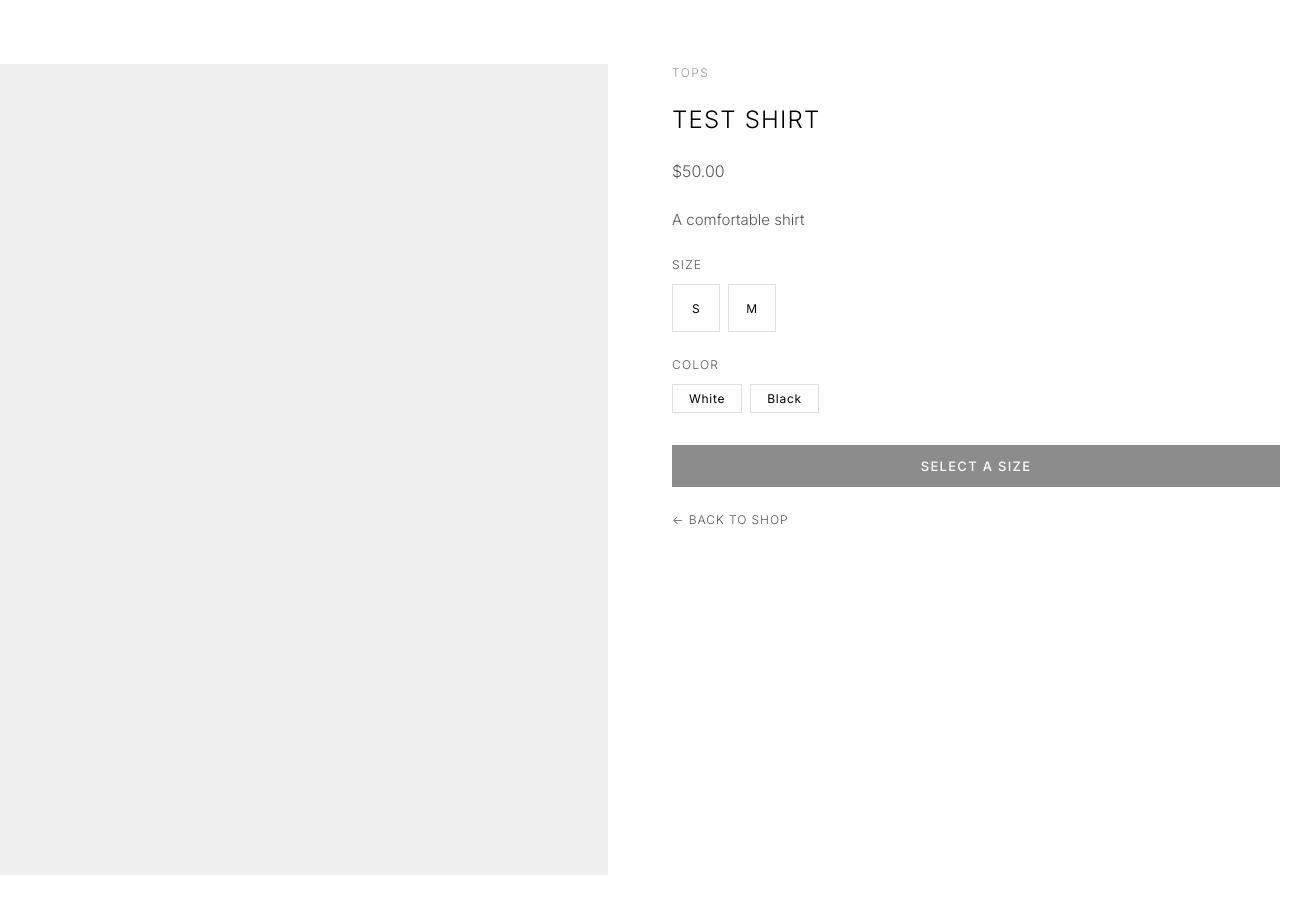
Test: ProductDetail — add-to-cart button label › restores "Add to Cart" after switching from unavailable to available combo
expect the heading "Test Shirt" is shown: met, box [672, 105, 820, 134]
# S → M/White (sold out) → pick Black → M/Black (available)
Click the button named "size s".
click(696, 308)  # box [672, 284, 720, 332]
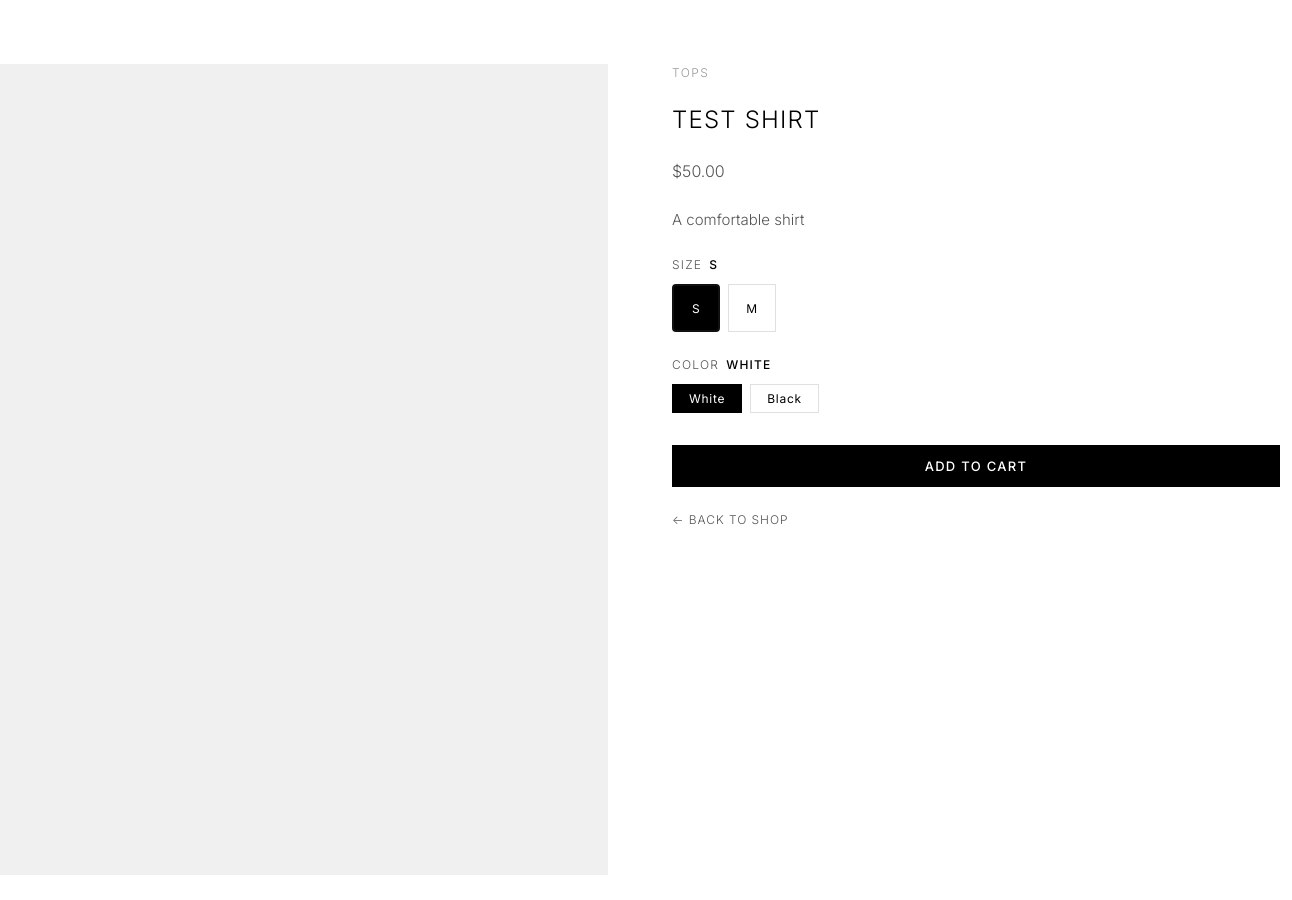
Click the button named "size m".
click(752, 308)  # box [728, 284, 776, 332]
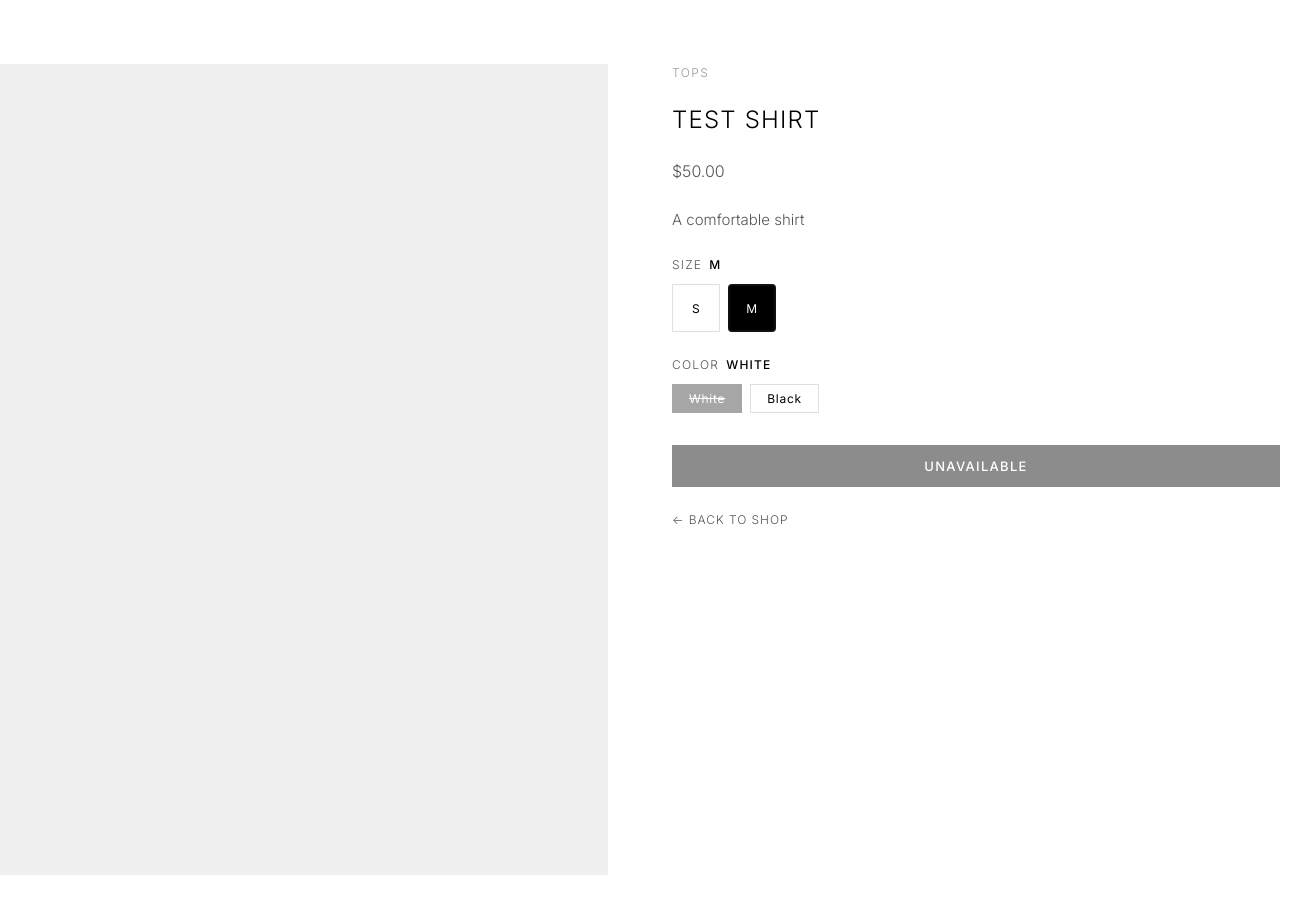
expect the button "Unavailable" is shown: met, box [672, 445, 1280, 487]
Click the button with aria-label "color black".
click(784, 399)  # box [750, 384, 819, 413]
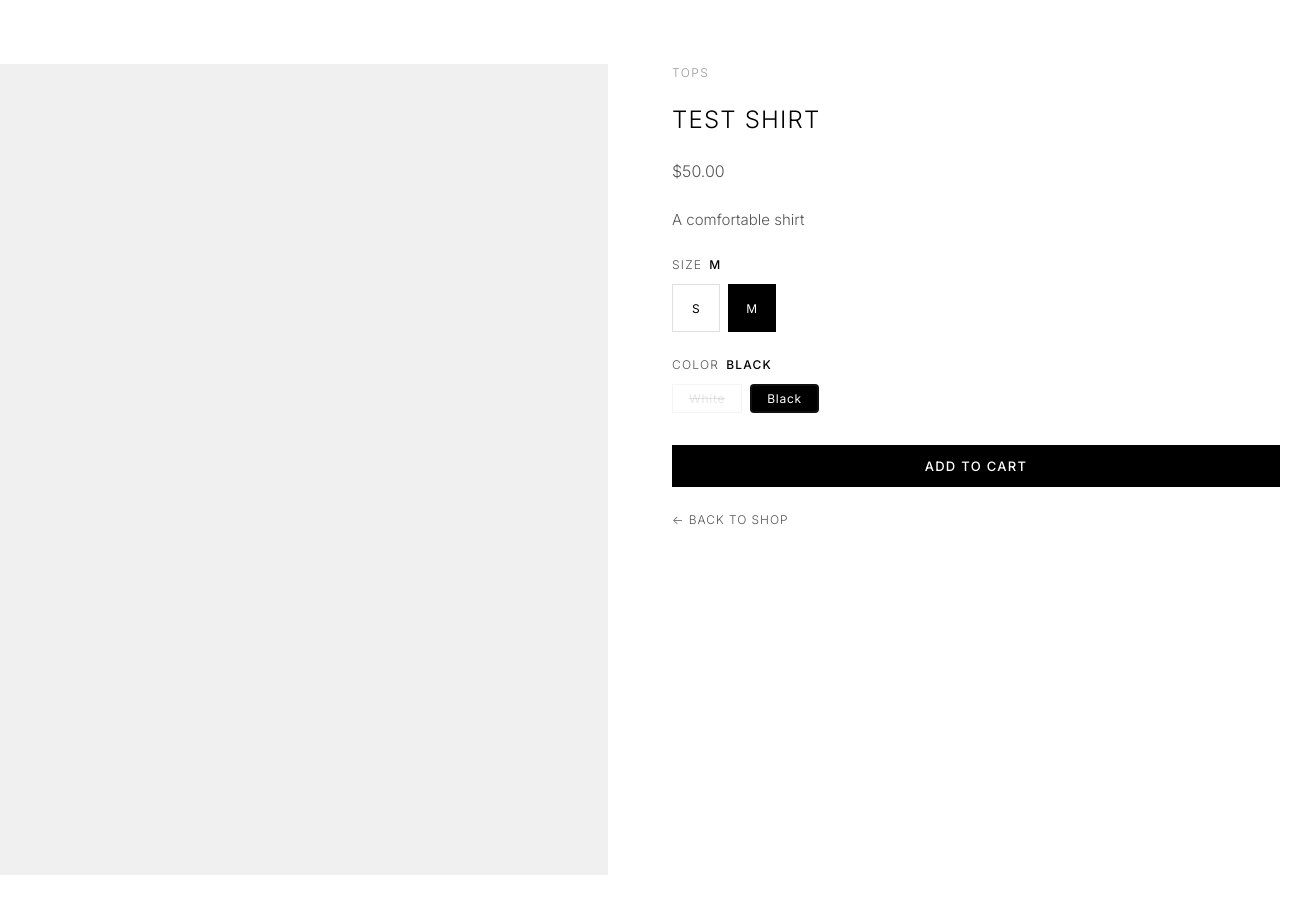
expect the button "Add to Cart" is shown: met, box [672, 445, 1280, 487]
